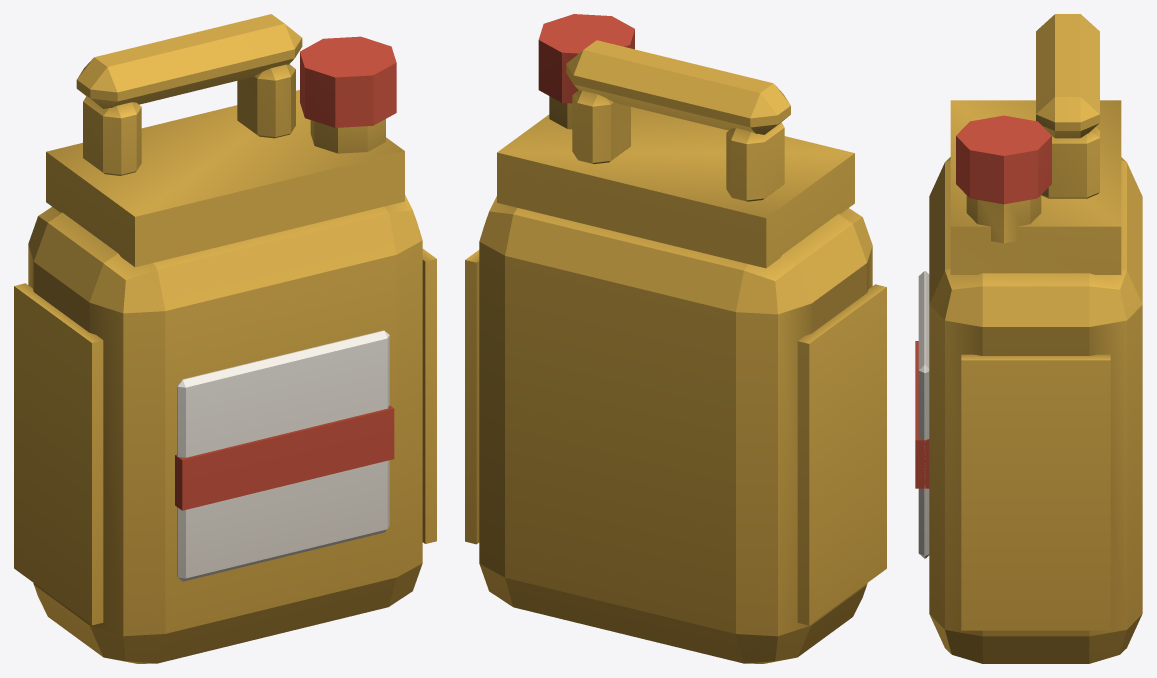
Rendered from jerigen.glb.
3 views of the same model, side by side, from view 1: azimuth 30°, elevation 25°; view 2: azimuth 150°, elevation 25°; view 3: azimuth 270°, elevation 25° (orthographic). The views are drawn at different scales.
Visible parts, largest first — view 1: jerigen_mesh; view 2: jerigen_mesh; view 3: jerigen_mesh.
Boxes of the visible parts, bbox=[...] form: jerigen_mesh: bbox=[14, 14, 436, 663]; jerigen_mesh: bbox=[465, 14, 886, 663]; jerigen_mesh: bbox=[915, 14, 1142, 663].
Bounding box in the file's own units: 0.358 × 0.5625 × 0.213.
